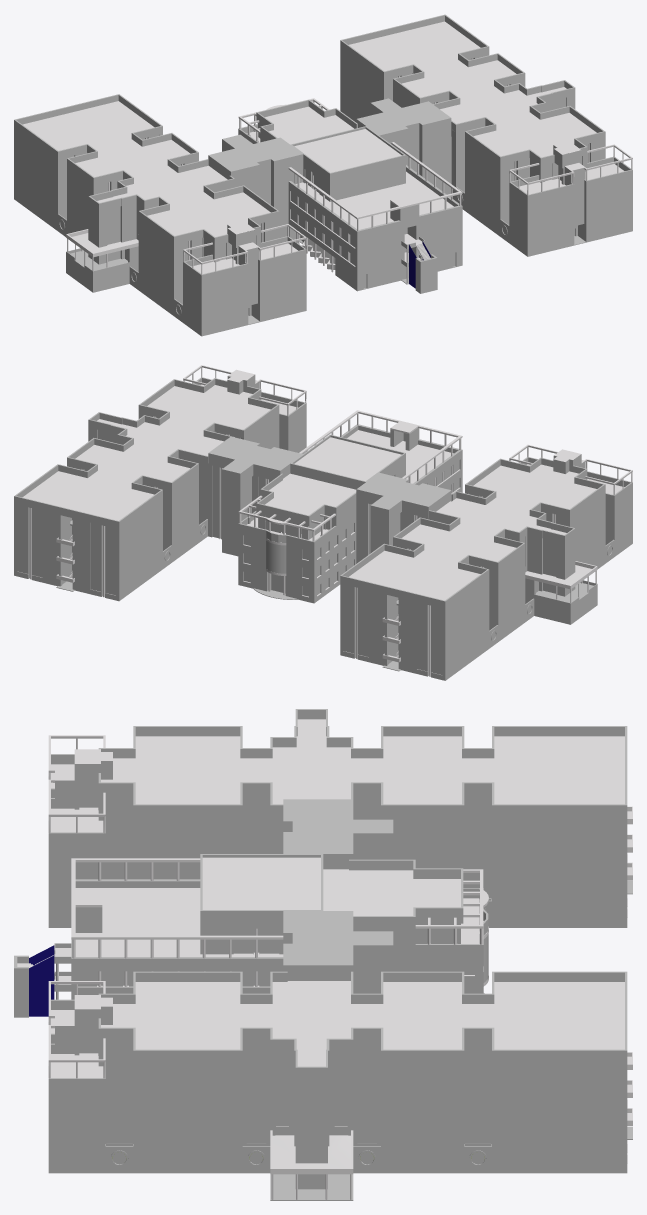
File: EDIFICIO TD.FBX
3 views of the same model, one above another, from view 1: azimuth 30°, elevation 25°; view 2: azimuth 150°, elevation 25°; view 3: azimuth 270°, elevation 25° (orthographic). The views are drawn at different scales.
Parts seen in each view (by area): view 1: CARAVISTA, BLANCO MATE, VEN, PAVES, SUELO TERRAZA; view 2: CARAVISTA, BLANCO MATE, VEN, PAVES, SUELO TERRAZA; view 3: CARAVISTA, BLANCO MATE, VEN, SUELO TERRAZA, MORADO, PAVES.
Part boxes in pixels (bbox=[...]): CARAVISTA: bbox=[14, 14, 632, 336]; BLANCO MATE: bbox=[22, 21, 632, 283]; VEN: bbox=[60, 55, 602, 315]; PAVES: bbox=[107, 97, 566, 260]; SUELO TERRAZA: bbox=[70, 236, 586, 324]; CARAVISTA: bbox=[14, 375, 632, 680]; BLANCO MATE: bbox=[17, 365, 632, 676]; VEN: bbox=[17, 399, 611, 674]; PAVES: bbox=[97, 430, 556, 592]; SUELO TERRAZA: bbox=[56, 520, 593, 671]; CARAVISTA: bbox=[14, 709, 627, 1189]; BLANCO MATE: bbox=[17, 719, 632, 1199]; VEN: bbox=[77, 795, 490, 1164]; SUELO TERRAZA: bbox=[270, 881, 632, 1200]; MORADO: bbox=[29, 945, 54, 1016]; PAVES: bbox=[353, 851, 378, 993].
Size of the model in its own units: 138 by 22.52 by 94.93.
